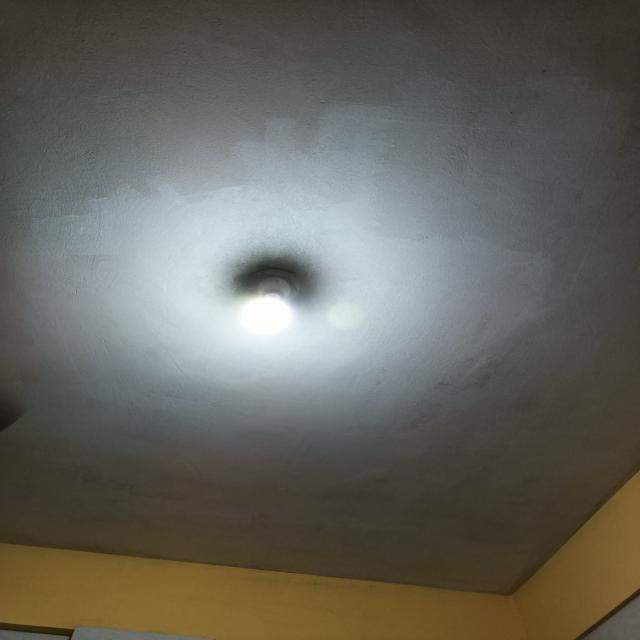bulb_on: (233, 268, 300, 345)
